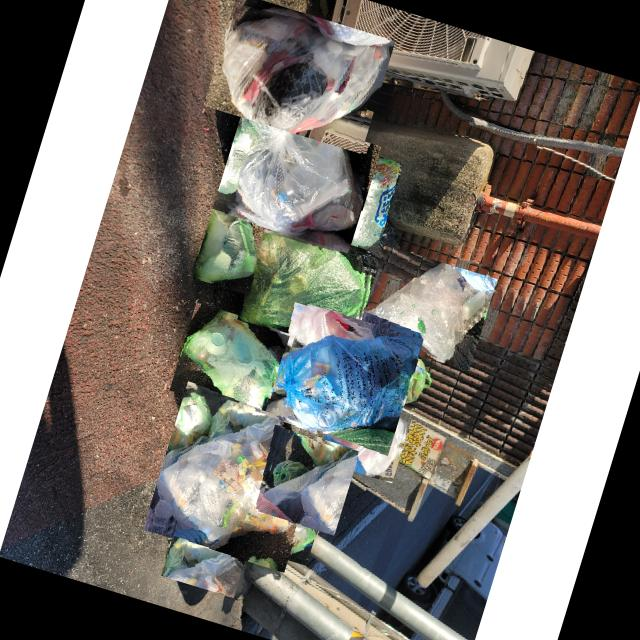general_trashbag: (278, 334, 422, 432), (239, 228, 365, 328), (181, 310, 278, 413), (162, 499, 245, 573), (336, 157, 398, 247), (192, 201, 255, 280), (257, 492, 311, 557), (394, 356, 430, 405), (306, 471, 341, 498)
other_trashbag: (220, 14, 387, 132), (154, 414, 299, 545), (234, 106, 361, 232), (361, 262, 490, 361), (262, 451, 354, 523), (317, 400, 403, 474)
